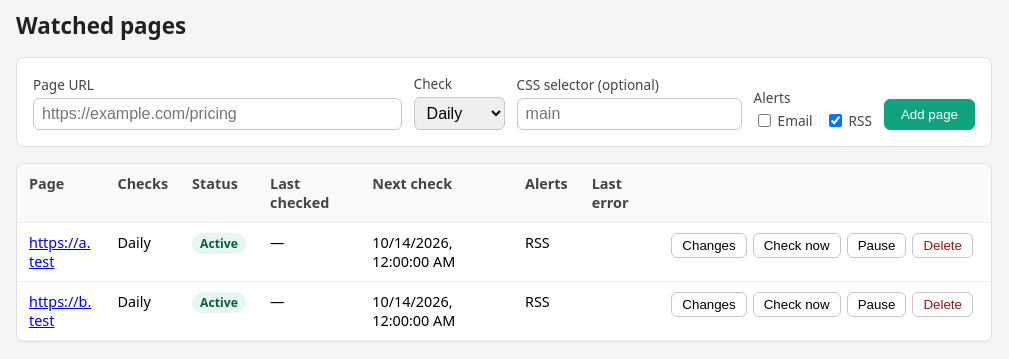
it: an older list reply arriving last cannot bring back a deleted watch
Click the button "Pause" in the row of "https://a.test". click: x=876, y=246
box: [847,233,906,258]
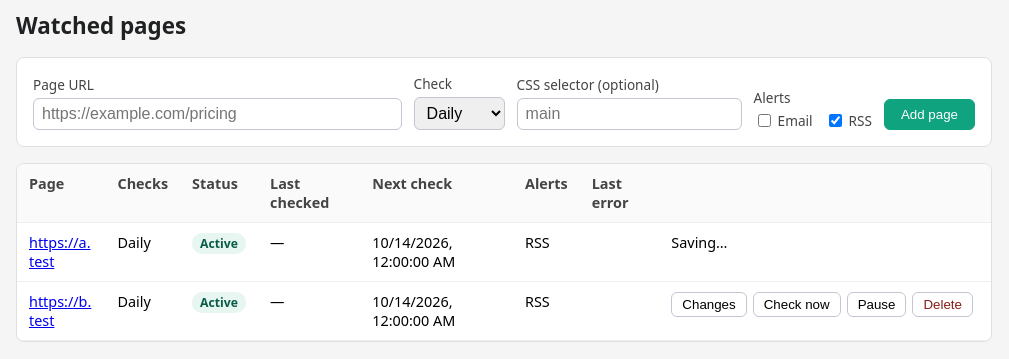
Click the button "Delete". click: x=943, y=304
box: [912,292,973,317]
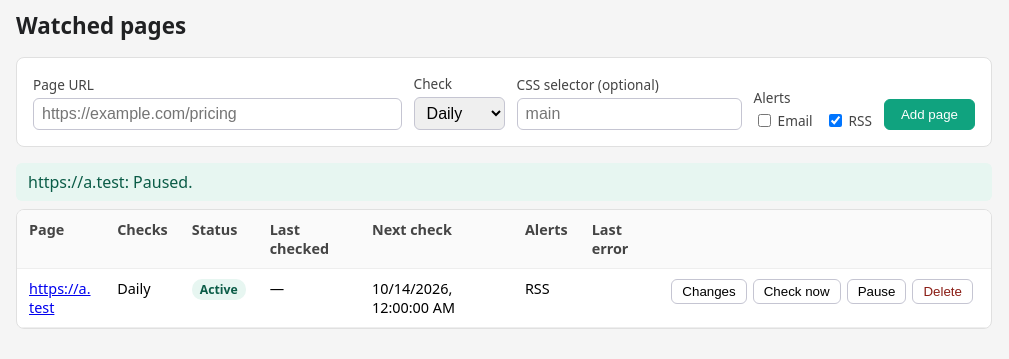
Expected: the button "Pause" is shown, [847,279,906,304]
Expected: the link "https://b.test" is gone
